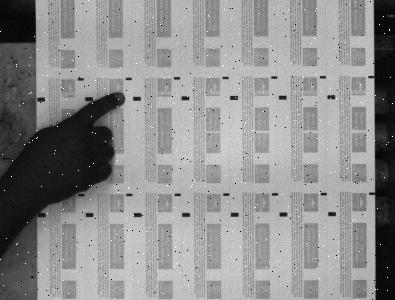qblock: (279, 212, 288, 217), (37, 97, 45, 102), (133, 96, 141, 101), (279, 95, 287, 100), (230, 95, 238, 100), (182, 212, 190, 217), (231, 212, 239, 217), (327, 95, 336, 99), (181, 96, 190, 100), (37, 213, 46, 217), (133, 213, 142, 217), (85, 97, 93, 101), (85, 213, 93, 217), (328, 212, 336, 216)
smallqblock: (125, 77, 132, 80), (222, 76, 229, 79), (271, 76, 278, 79), (126, 193, 133, 196), (174, 193, 181, 196), (223, 193, 230, 196), (272, 193, 279, 196), (78, 193, 85, 196), (320, 192, 327, 195), (78, 78, 84, 81), (174, 77, 180, 80), (320, 76, 326, 79), (368, 75, 374, 78), (369, 192, 375, 195)
